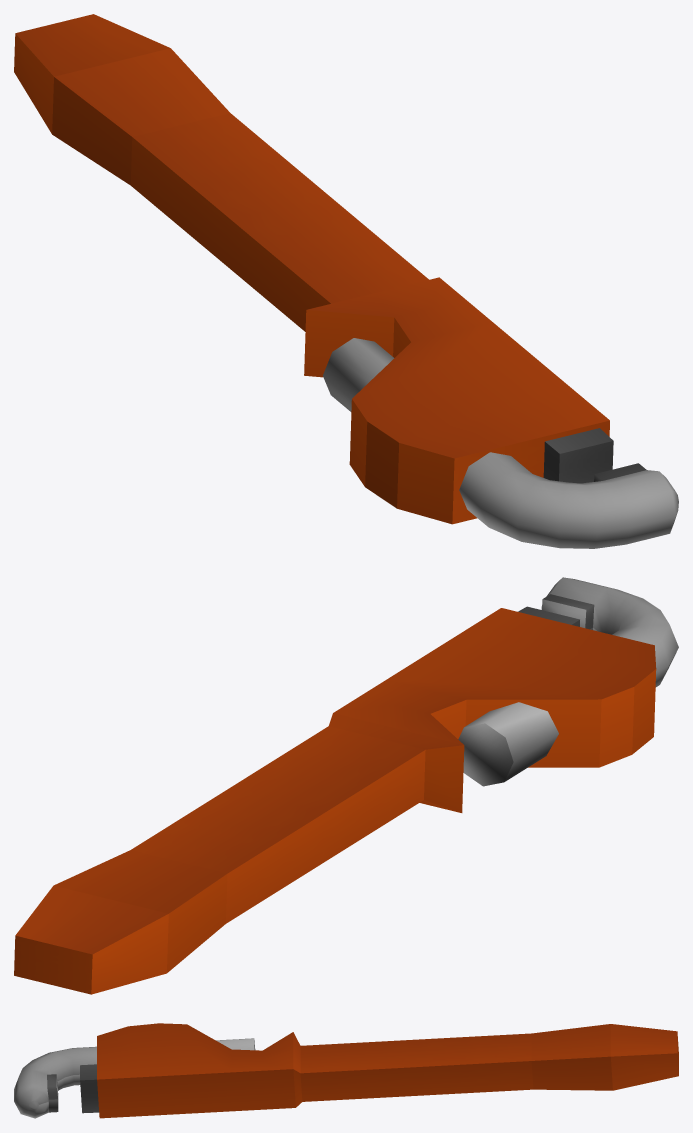
File: Lock Pick.fbx
The picture shows the model from 3 angles, top to bottom: view 1: azimuth 30°, elevation 25°; view 2: azimuth 150°, elevation 25°; view 3: azimuth 270°, elevation 25°; orthographic projection. The views are drawn at different scales.
Visible parts, largest first — view 1: Cube.069; view 2: Cube.069; view 3: Cube.069.
Part boxes in pixels (<box>): Cube.069: <box>14,14,678,548</box>; Cube.069: <box>14,577,678,994</box>; Cube.069: <box>14,1023,678,1118</box>.
Bounding box in the file's own units: 81.18 × 44.77 × 409.
